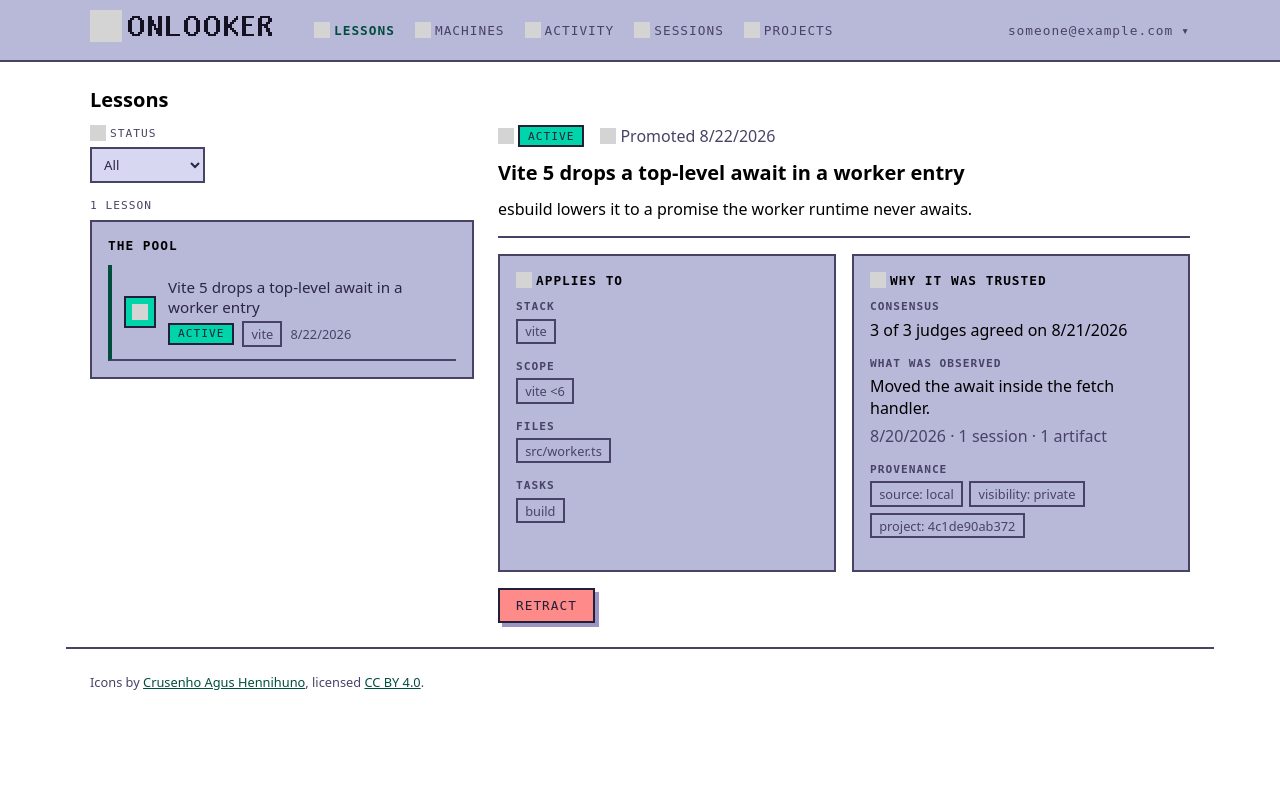
retract › offers no retry for a failure that would repeat
The image size is (1280, 800).
Click the button "Retract".
click(546, 606)  # box [498,588,595,623]
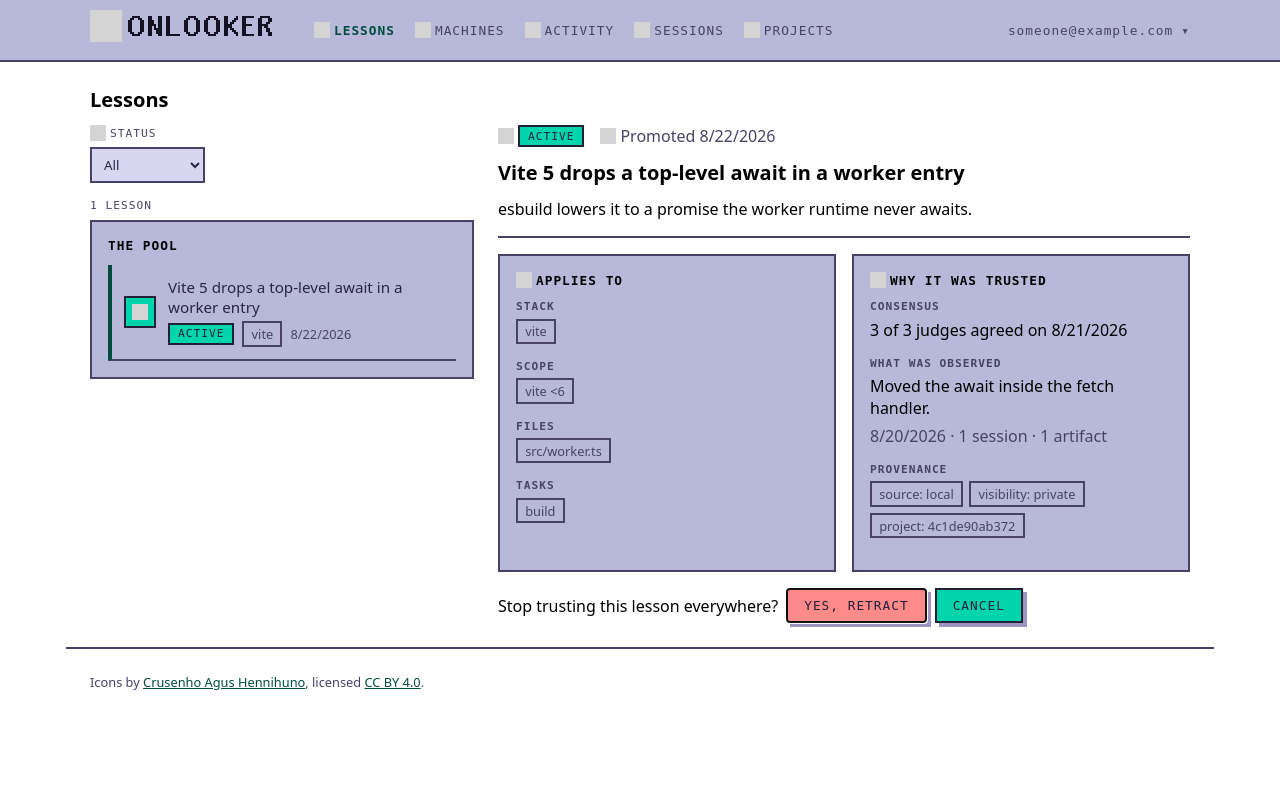
Click the button "Yes, retract".
click(856, 606)  # box [786,588,927,623]
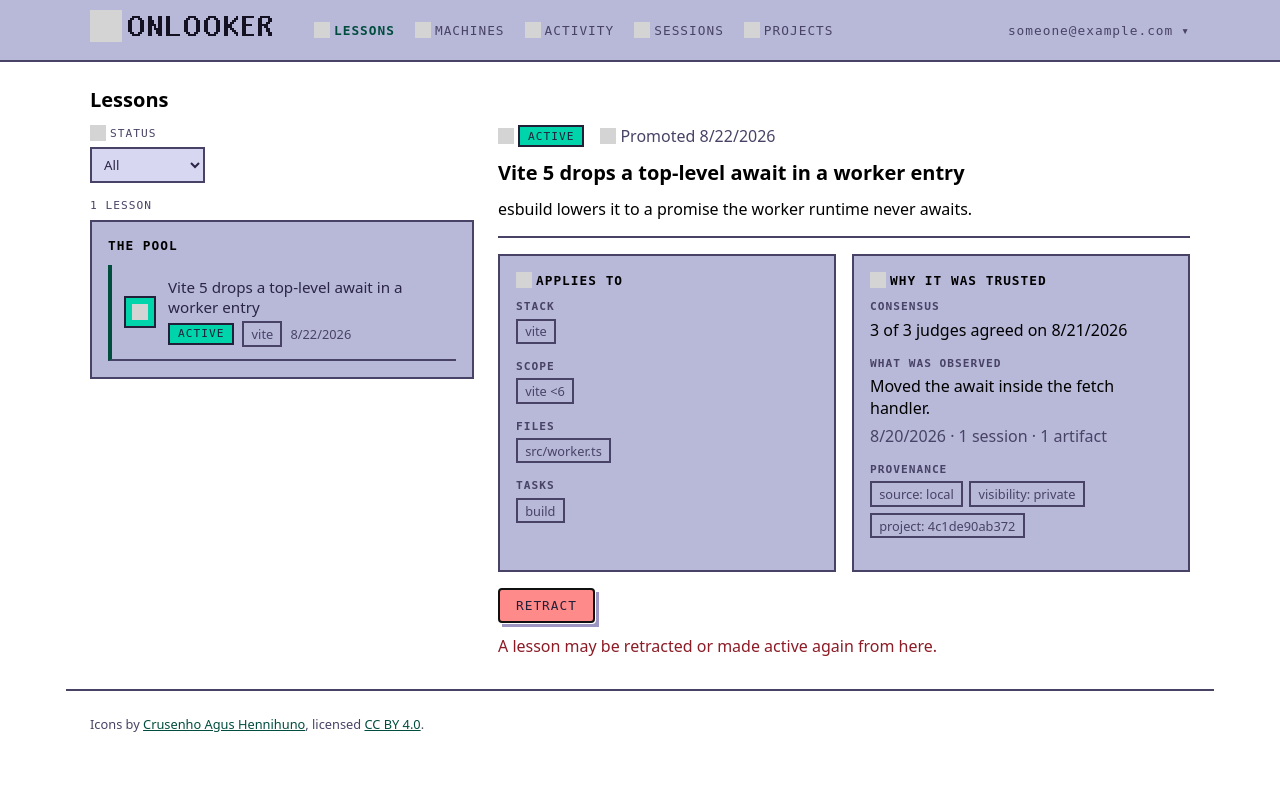
Now the text "A lesson may be retracted or made active again from here." is shown, box [498,635,937,657]
Now the button "Yes, retract" is gone
